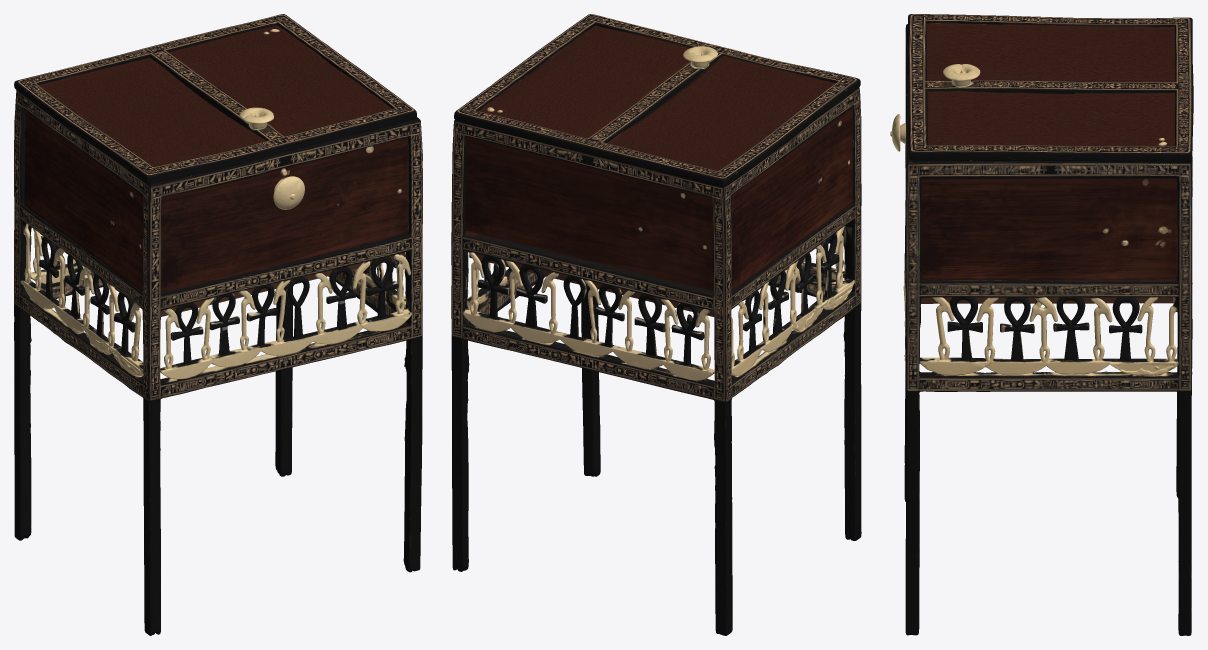
The model's file is 403-headrest-cabinet.glb.
The picture shows the model from 3 angles, left to right: view 1: azimuth 30°, elevation 25°; view 2: azimuth 150°, elevation 25°; view 3: azimuth 270°, elevation 25°; orthographic projection. The views are drawn at different scales.
Visible parts, largest first — view 1: cabinet-body, decorated-lid, cabinet-interior; view 2: cabinet-body, decorated-lid, cabinet-interior; view 3: cabinet-body, decorated-lid, cabinet-interior.
Boxes of the visible parts, <box> form: cabinet-body: <box>14,90,422,635</box>; decorated-lid: <box>14,14,420,189</box>; cabinet-interior: <box>31,227,405,316</box>; cabinet-body: <box>451,90,861,635</box>; decorated-lid: <box>454,14,860,188</box>; cabinet-interior: <box>469,232,836,316</box>; cabinet-body: <box>890,52,1192,635</box>; decorated-lid: <box>905,14,1193,166</box>; cabinet-interior: <box>921,297,1173,303</box>.
Size of the model in its own units: 0.4271 by 0.7 by 0.3869.
3 materials, 1 textured.
